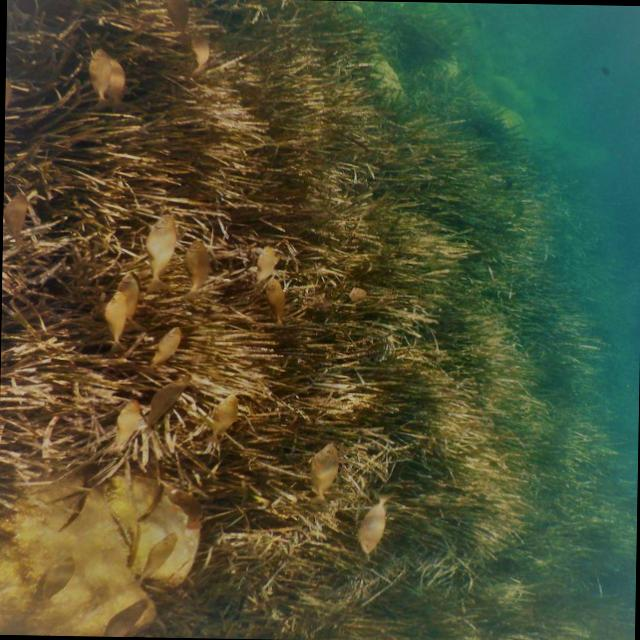Sokar Baligi: (68, 34, 148, 124), (344, 480, 412, 566)
